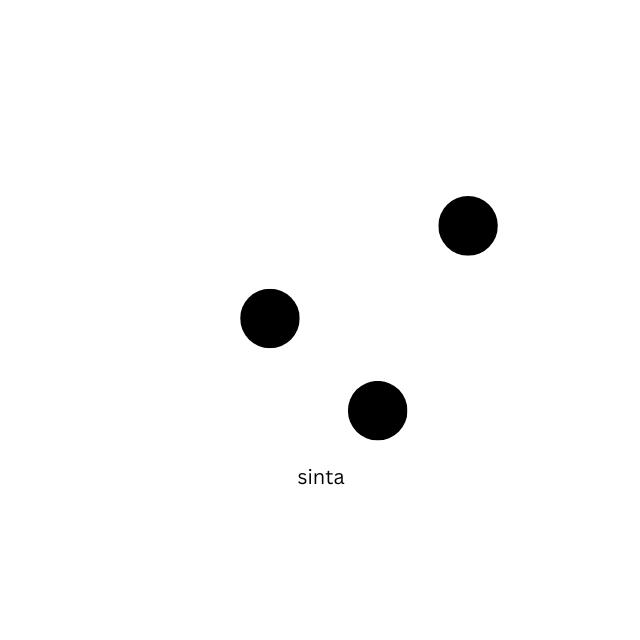dot_5: (149, 195, 301, 442)
two_cell_non_alphabet_sinta: (346, 193, 498, 440)
